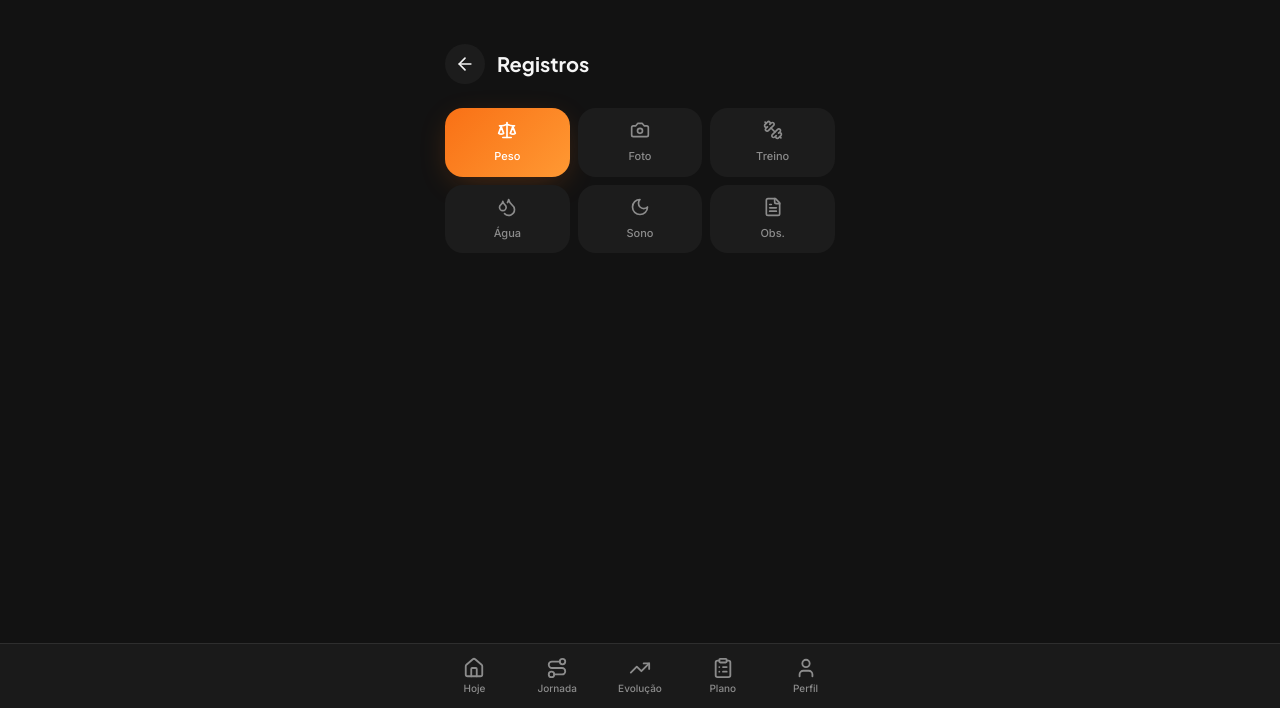
Foto evolutiva / guia de pose (PDF do Ernâni, tela 05) › sem fotos: sugere a frente, sem check, com dicas e privacidade
Click the button "Foto" at (640, 142), box [578,108,702,176]
(page scrolled)
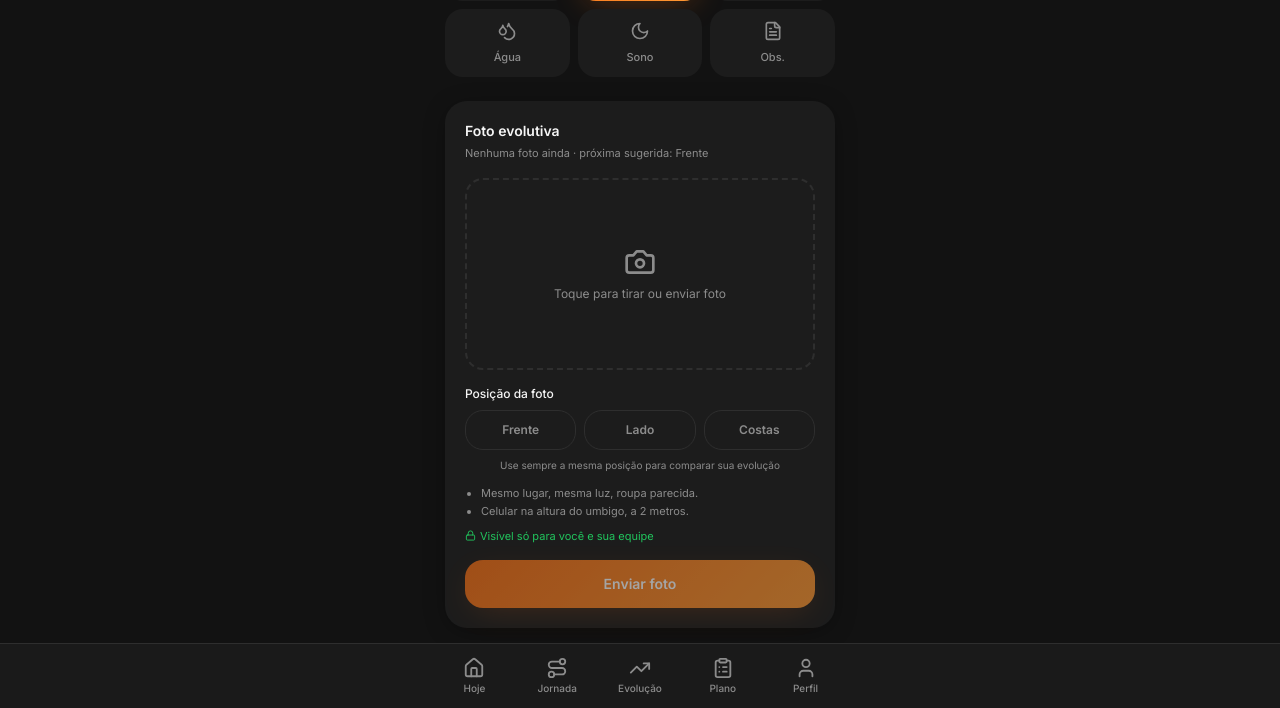
Check: the text with test id "pose-series-line" reads "Nenhuma foto ainda · próxima sugerida: Frente", box [465,146,708,160]
Check: the list with test id "pose-tips" shows "Mesmo lugar, mesma luz", box [481,486,698,500]
Check: the text "Visível só para você e sua equipe" is shown, box [465,528,654,542]
